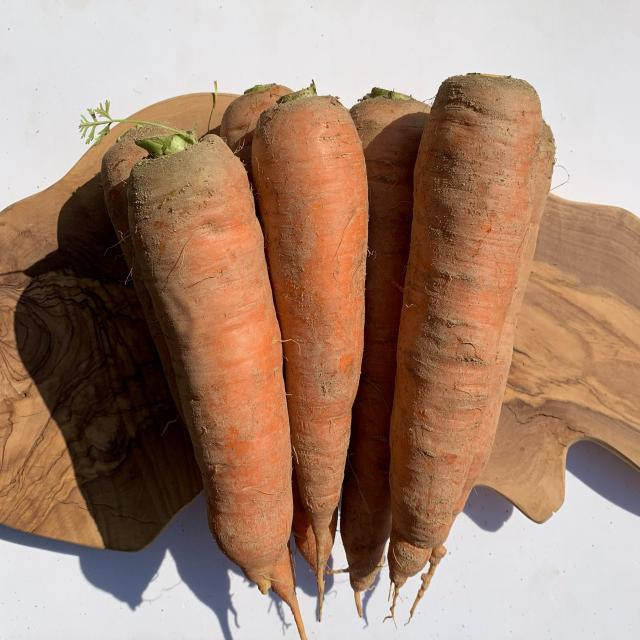carrot: (358, 75, 548, 600), (125, 131, 304, 595), (249, 93, 379, 582)
